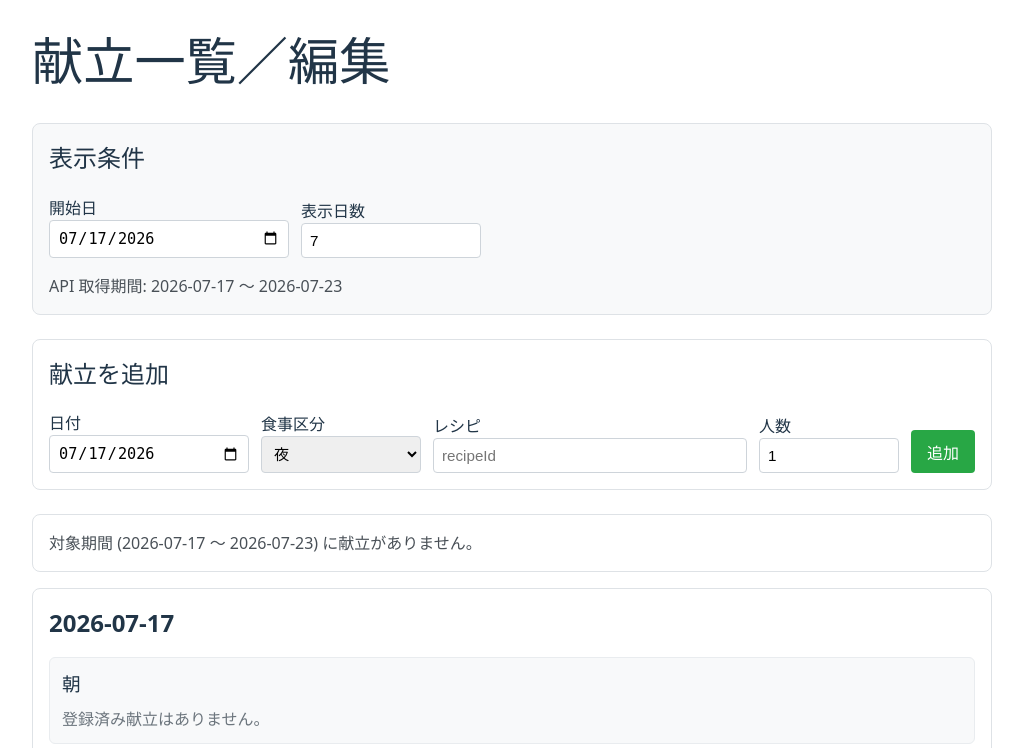
Test: MenusPage › 登録失敗時にエラーと入力値を保持する
The image size is (1024, 748).
Type "recipe-2" into the field labelled "レシピ" at (590, 456), box [433,438,747,473]
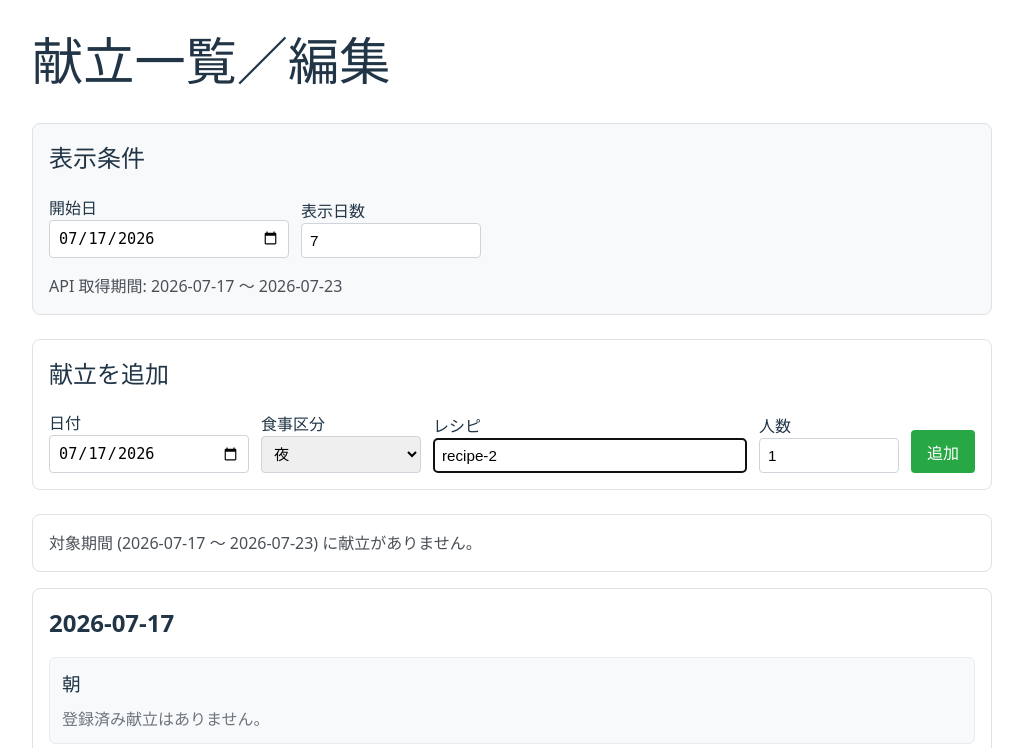
Replace the text in the number field labelled "人数" with "3" at (829, 456), box [759,438,899,473]
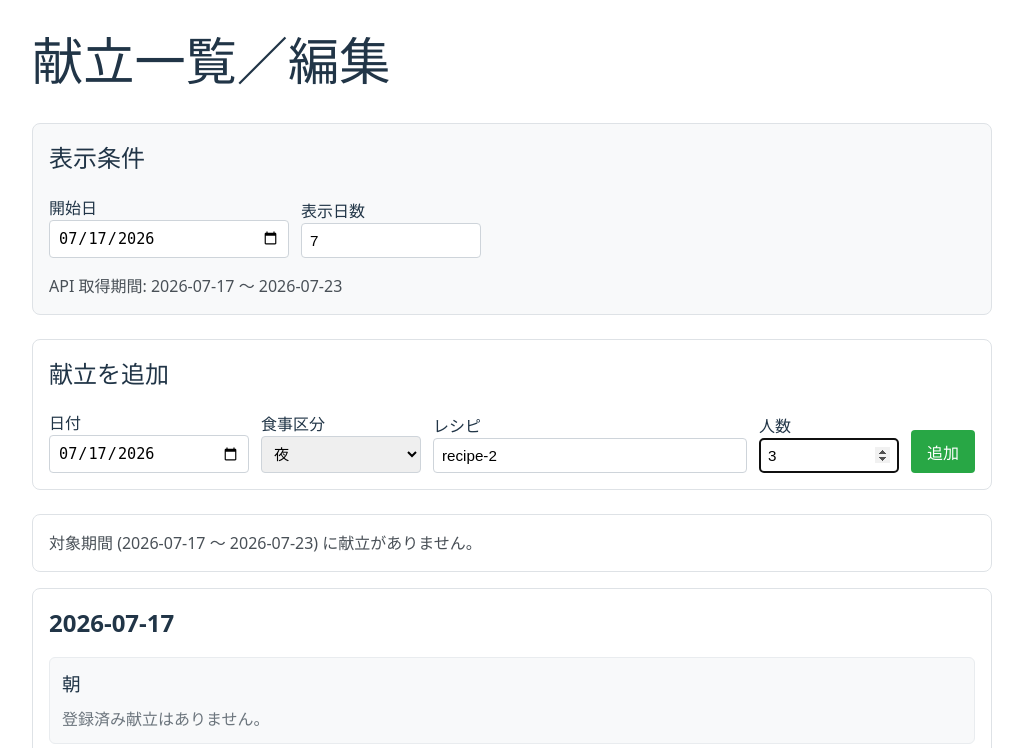
Click the button "追加" at (943, 452), box [911,430,975,473]
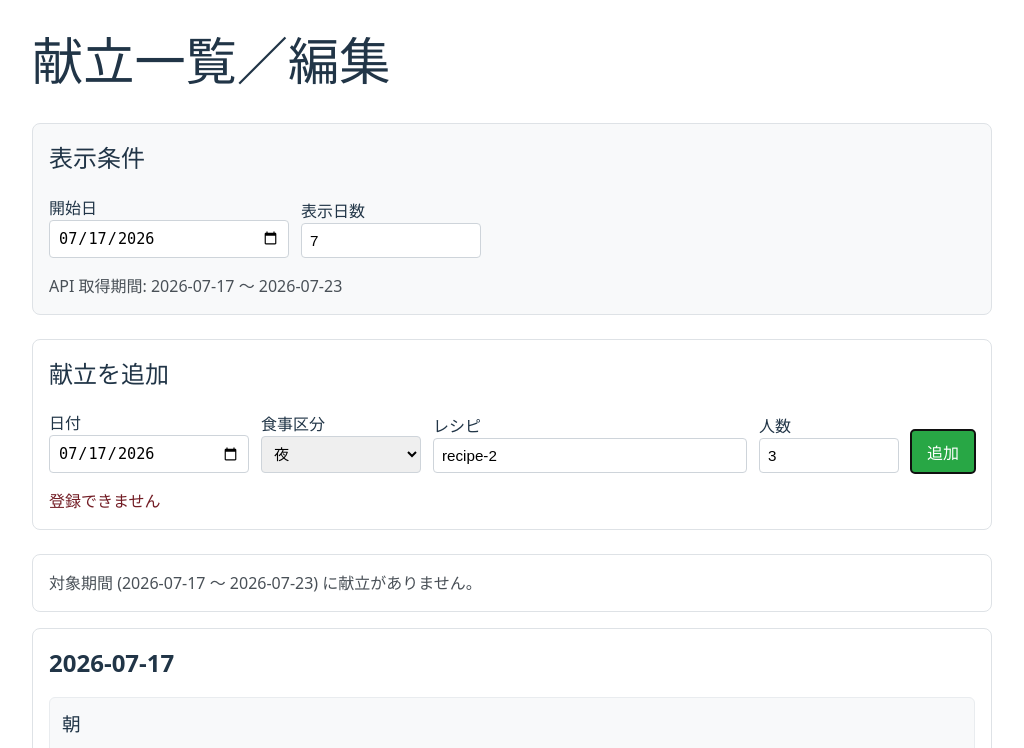
Expected: the text "登録できません" is shown, [49,490,160,512]
